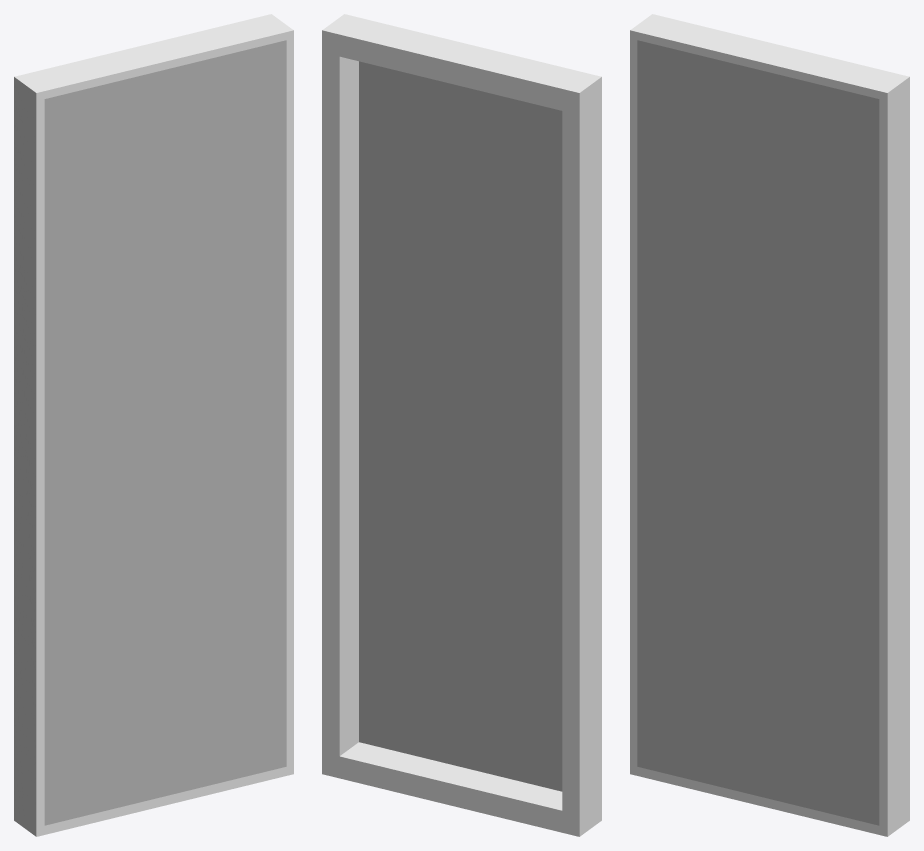
Rendered from HoloScreen_Small.fbx.
3 views of the same model, side by side, from view 1: azimuth 30°, elevation 25°; view 2: azimuth 150°, elevation 25°; view 3: azimuth 330°, elevation 25° (orthographic).
Parts seen in each view (by area): view 1: Beam.001; view 2: Beam.001; view 3: Beam.001.
Boxes of the visible parts, x1=… form: Beam.001: x1=14, y1=14, x2=293, y2=836; Beam.001: x1=322, y1=14, x2=601, y2=836; Beam.001: x1=630, y1=14, x2=909, y2=836.
Size of the model in its own units: 593 by 1638 by 91.15.
